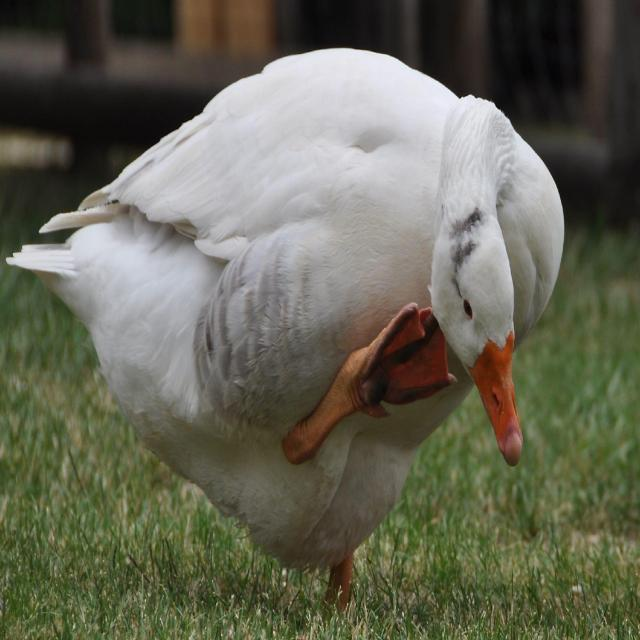Goose: (23, 42, 570, 602)
